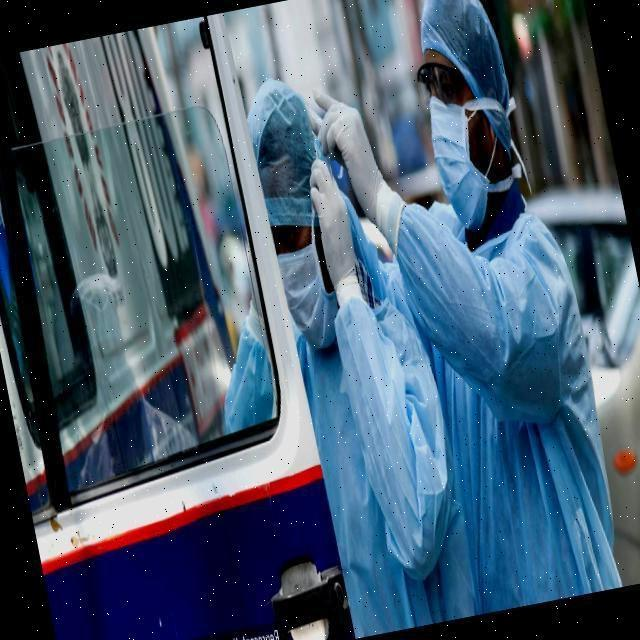apron: (309, 85, 397, 261), (302, 153, 358, 304)
